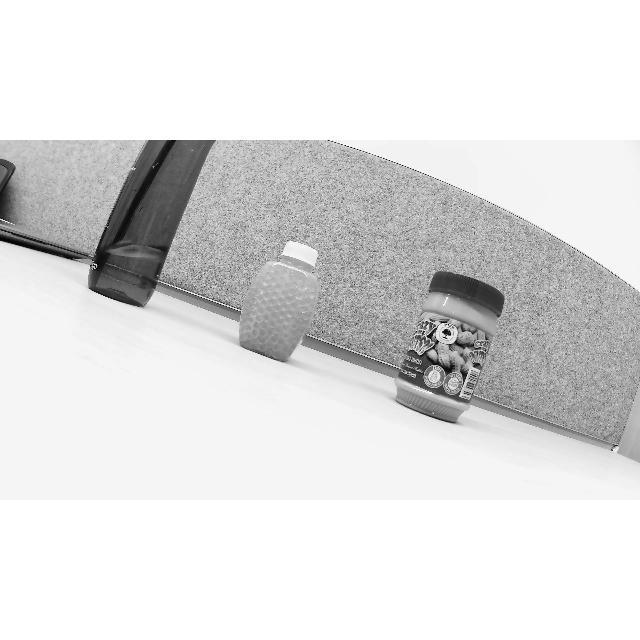targets: (88, 140, 228, 300), (396, 273, 506, 422), (238, 230, 332, 362)
